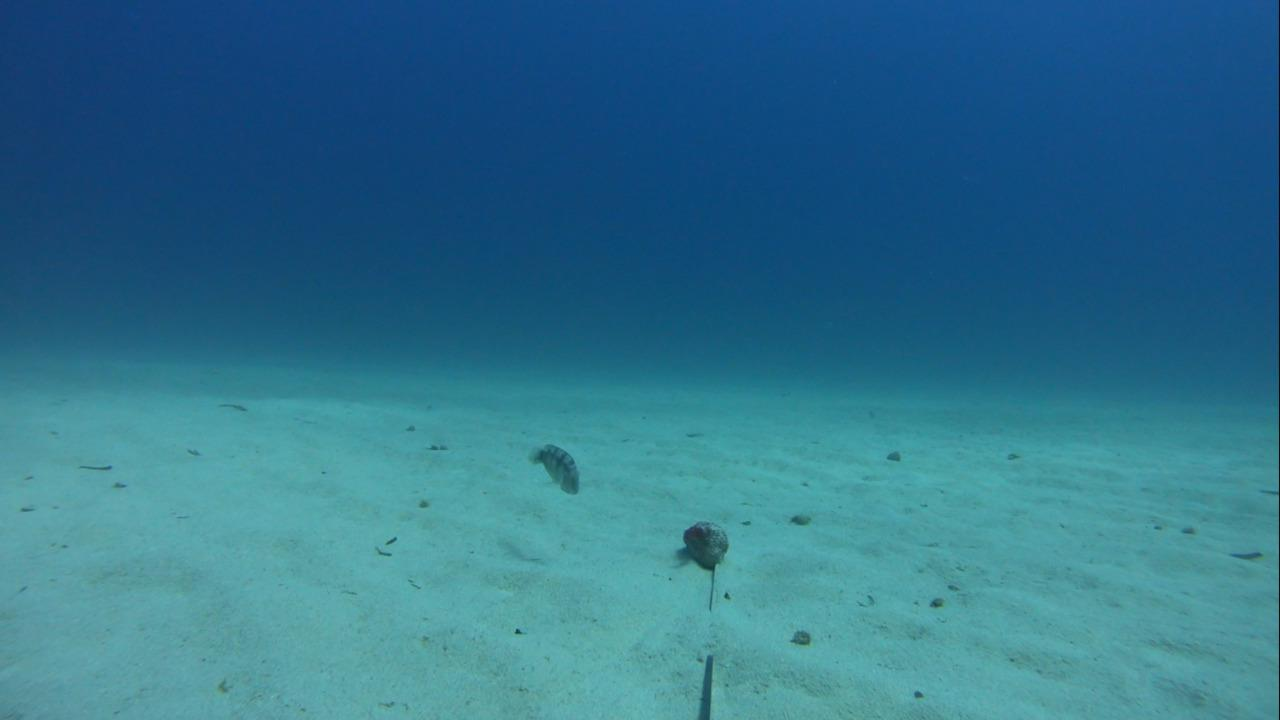raor: (525, 437, 585, 498)
